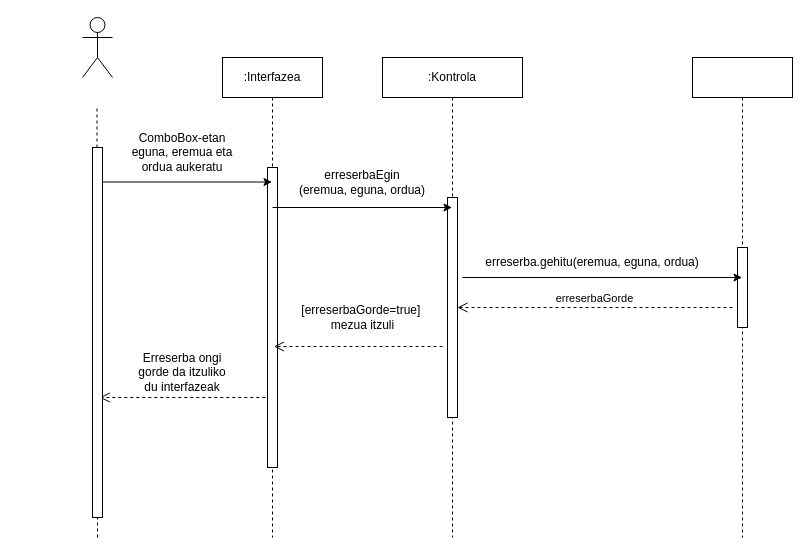
The diagram is 810 pixels wide and 556 high, and some of its shapes have lost their labels. Here are the shapes that lost their labels. From the top down, the centre of each, then its label:
point (97, 47): Erabiltzailea(Kluba, Bazkidea)
point (742, 297): :Erreserba
